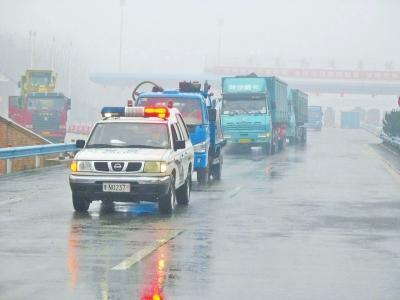bus: (219, 72, 289, 155), (8, 92, 71, 144), (254, 88, 309, 143), (17, 68, 58, 110), (299, 105, 324, 132), (366, 108, 381, 125)
car: (69, 99, 194, 212)
